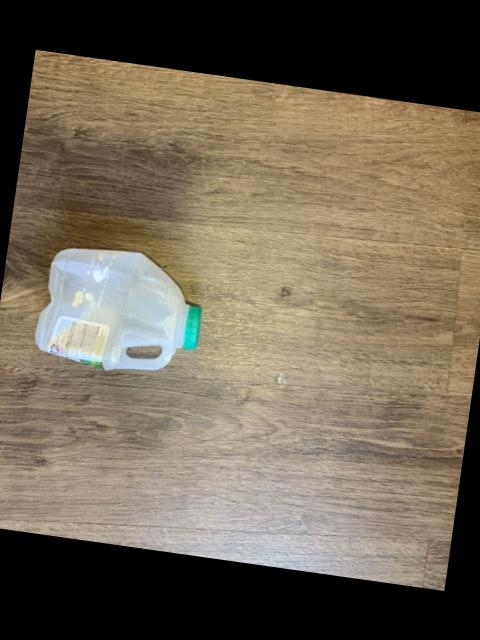plastic: (38, 247, 202, 368)
